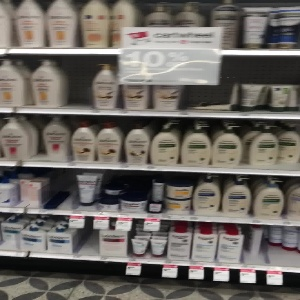void: (58, 54, 93, 108), (185, 81, 230, 114), (43, 171, 78, 211), (270, 224, 300, 266), (71, 215, 100, 255)
